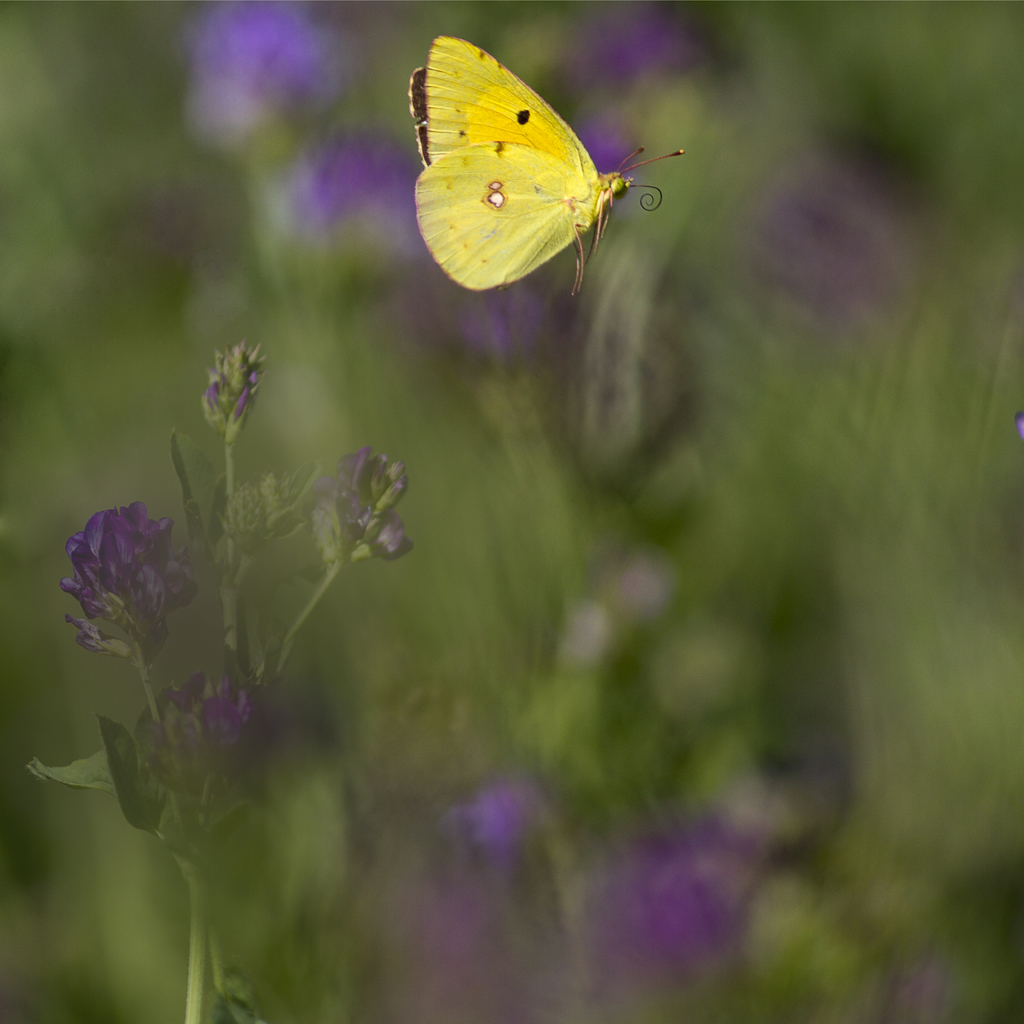Butterfly: (393, 30, 653, 292)
